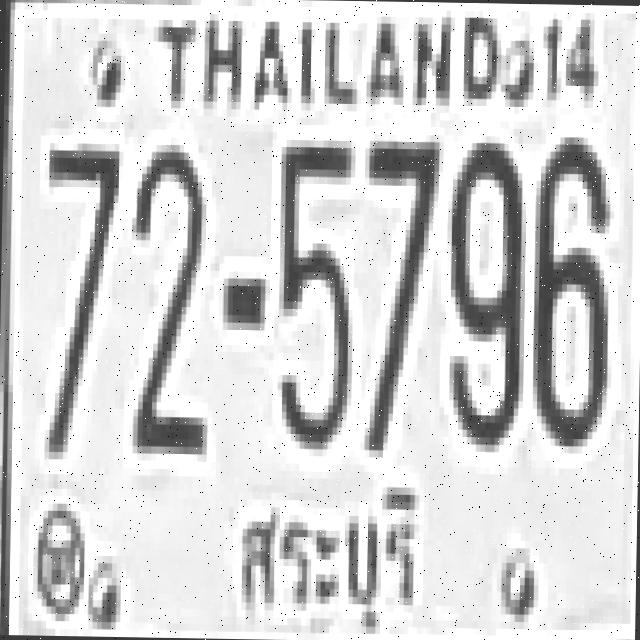0: (443, 134, 522, 438)
2: (126, 137, 204, 447)
5: (272, 132, 351, 442)
6: (527, 129, 606, 439)
7: (360, 134, 434, 444), (40, 139, 114, 449), (362, 134, 434, 356), (42, 135, 114, 350), (362, 133, 434, 326)
9: (443, 135, 522, 445)
SingBuri: (221, 464, 430, 640)
